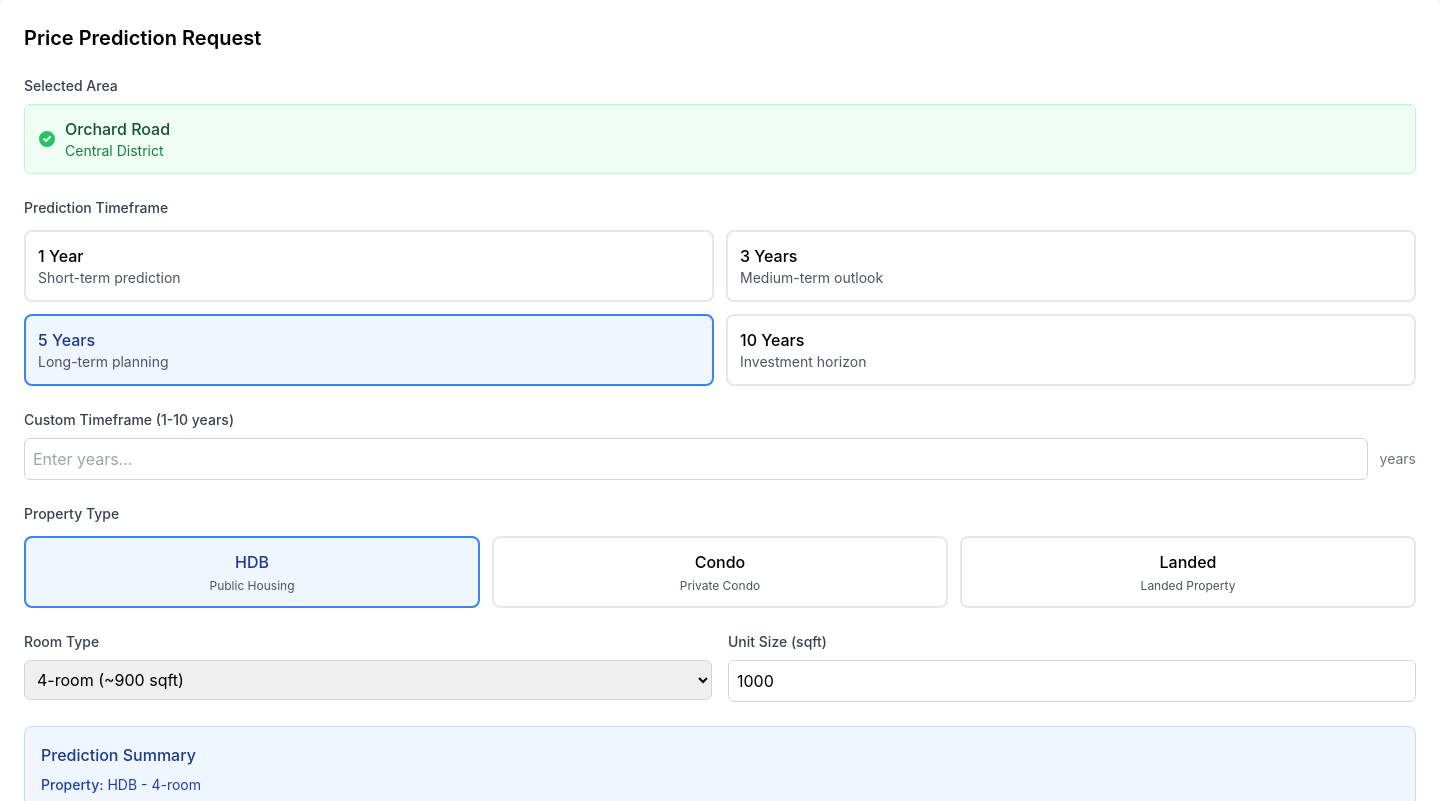
it: PredictionForm Component › shows timeframe description based on selected years
Select 1 year
Click the text "1 Year".
click(61, 256)  # box top-left (38, 246), bottom-right (84, 266)
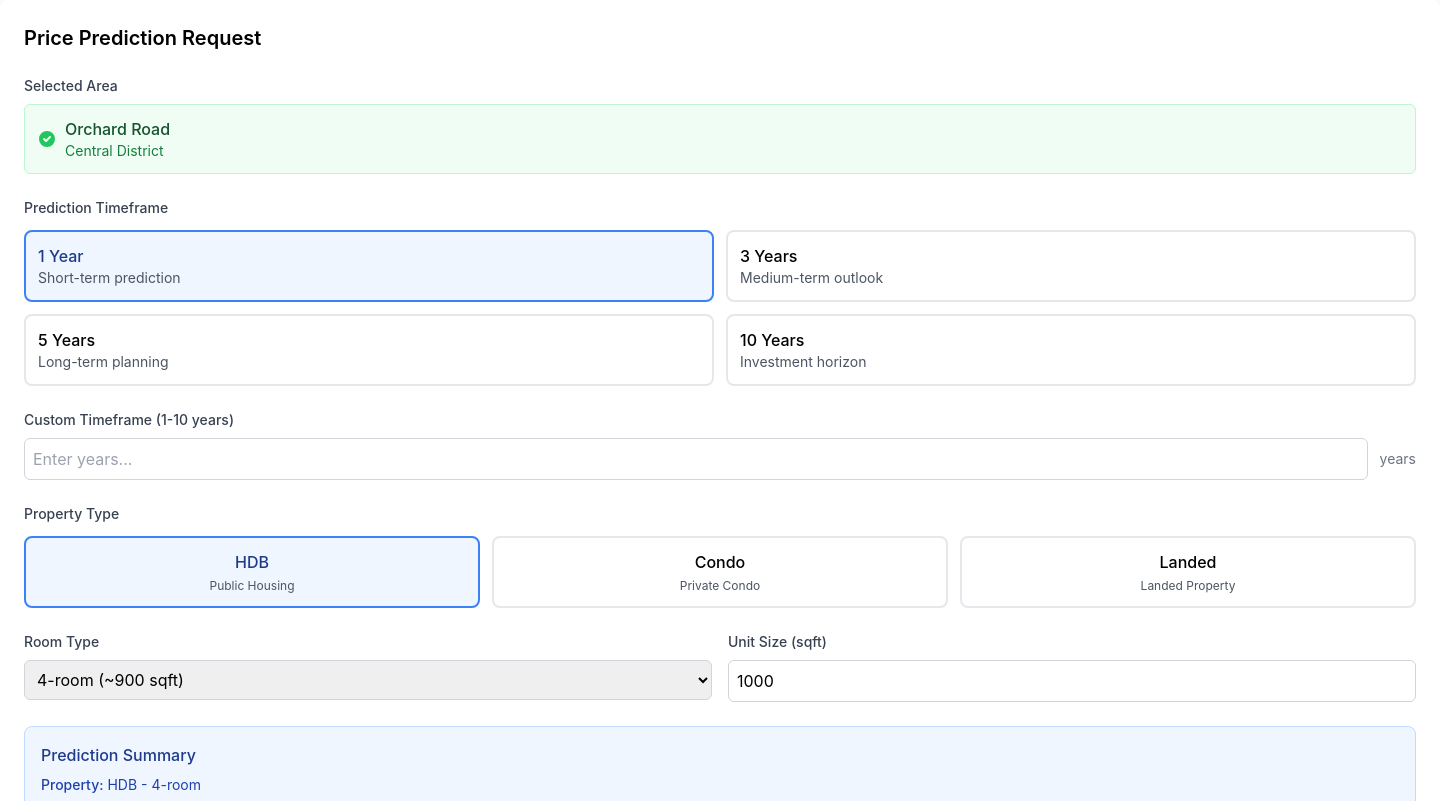
Select 10 years
Click the text "10 Years".
click(772, 340)  # box top-left (740, 330), bottom-right (804, 350)
(page scrolled)
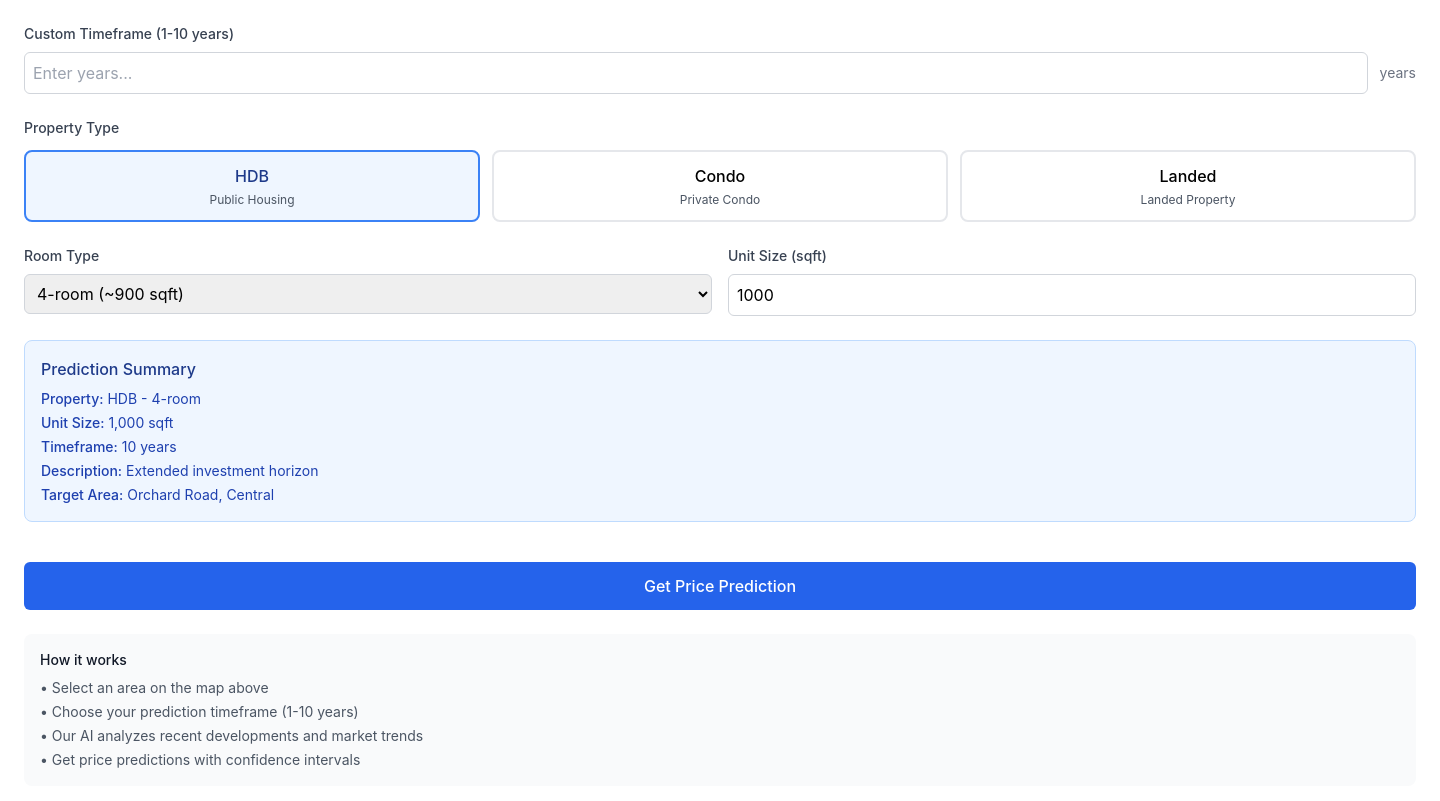
Result: the text "Description: Extended investment horizon" is shown at top-left (41, 462), bottom-right (318, 479)
